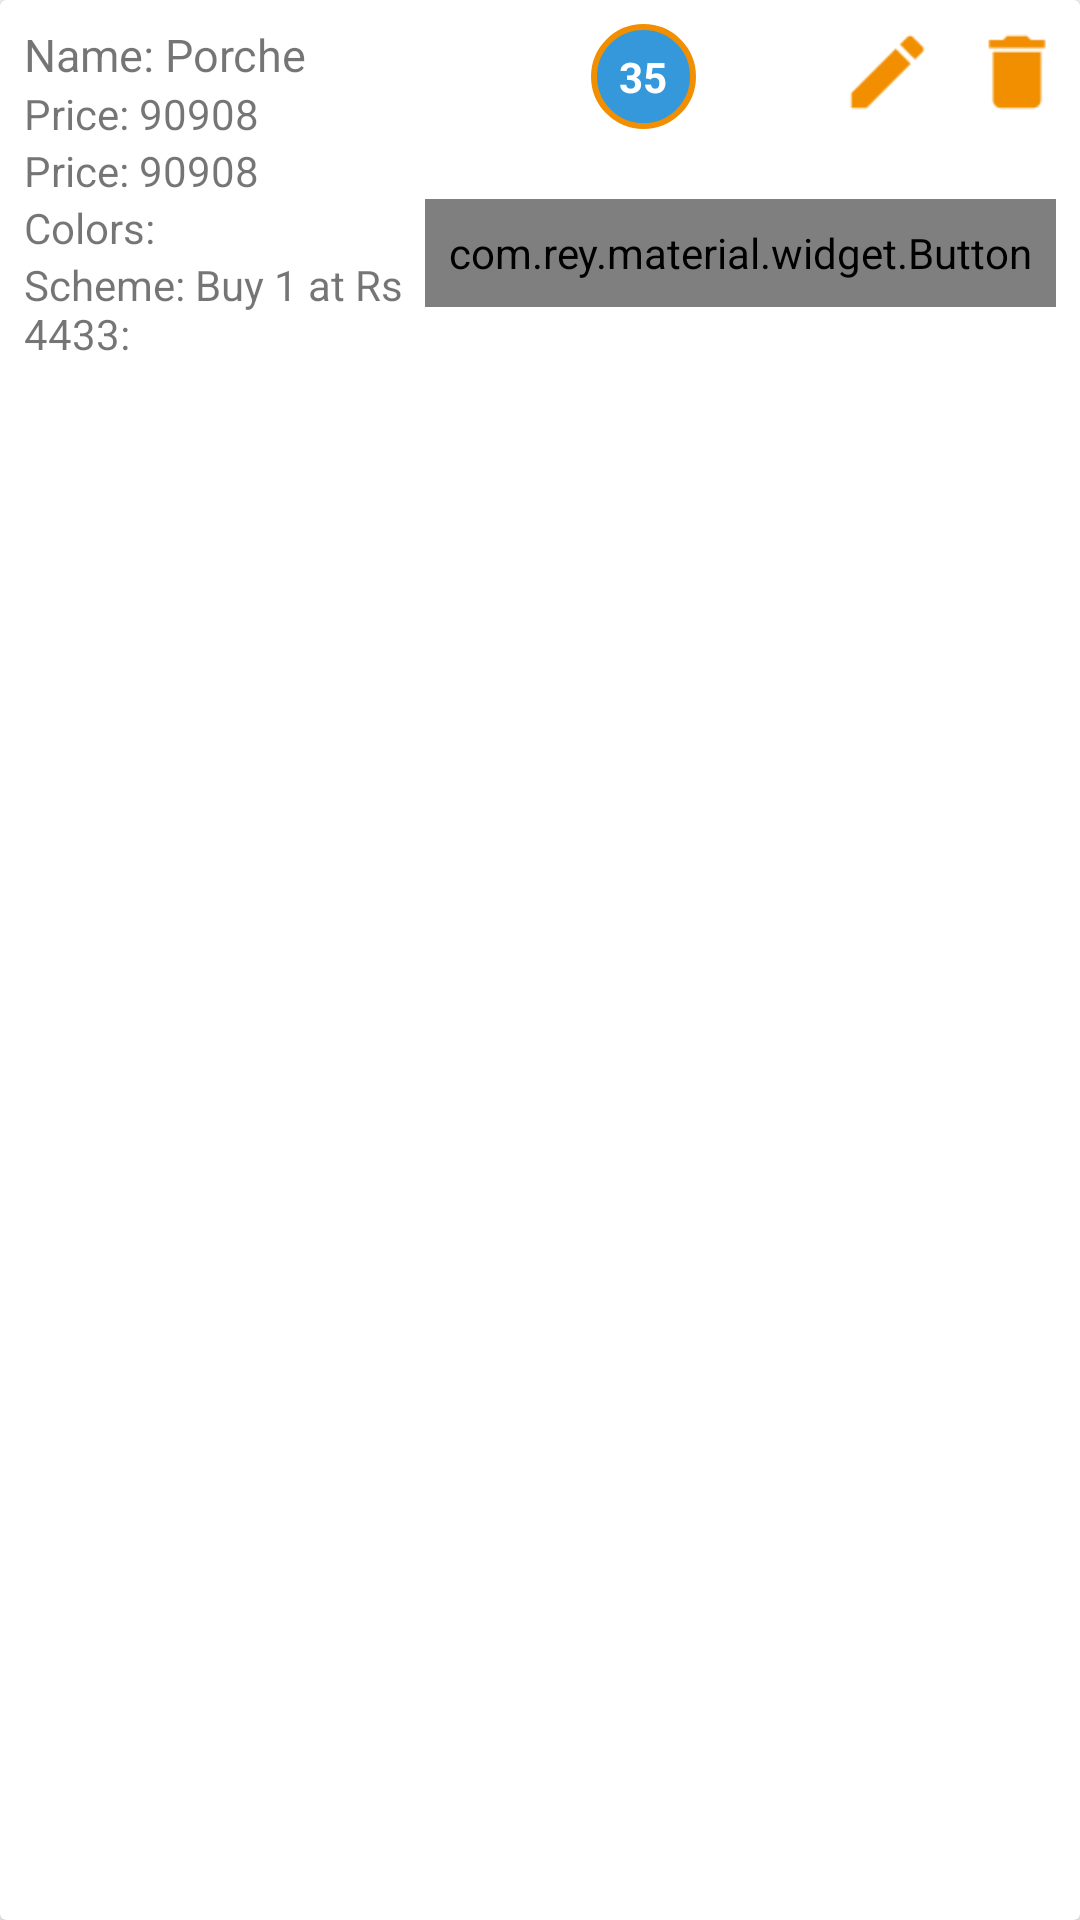

Icons on this 1080 x 1920 Android screen, each with the point to tap as [x,y]:
edit: [887,72]
